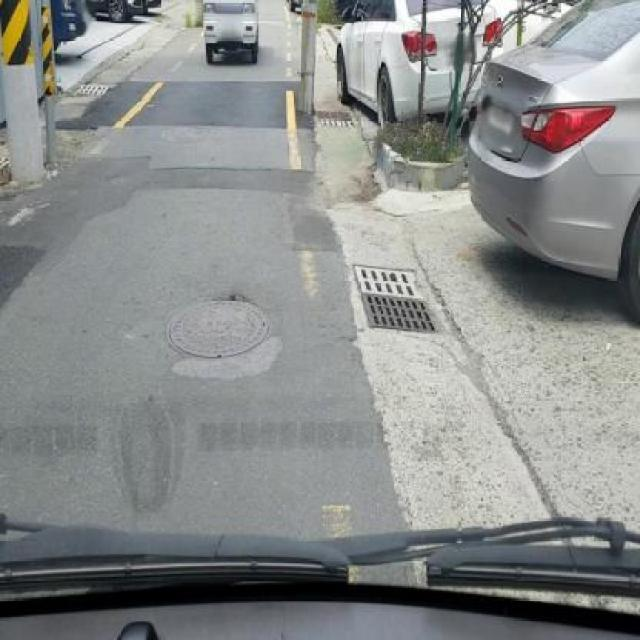Manhole: (350, 254, 448, 340), (163, 291, 274, 364), (316, 107, 364, 127)
